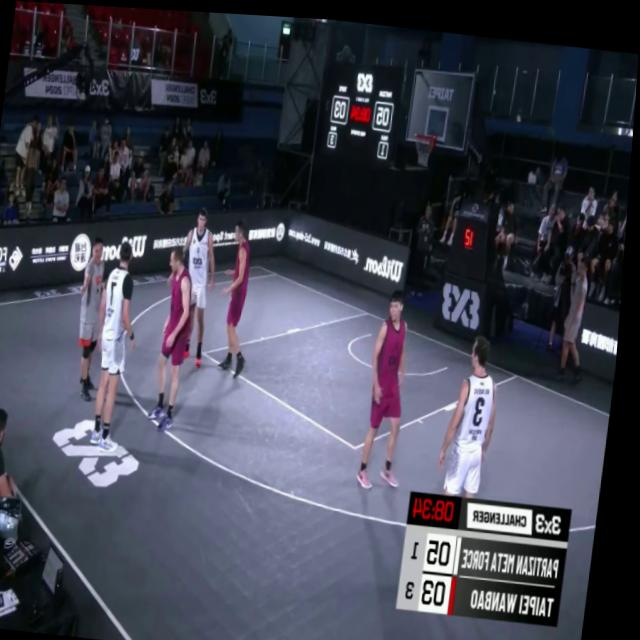hoop: (413, 120, 440, 165)
player: (437, 322, 509, 534), (363, 284, 426, 491), (92, 237, 152, 450), (154, 241, 205, 433), (177, 206, 229, 369), (218, 215, 265, 376)
